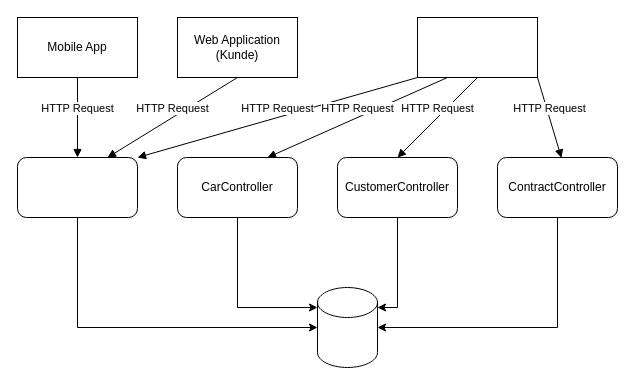
The diagram is 635 pixels wide and 385 high, and some of its shapes have lost their labels. The shapes that lost their labels are listed below. From the top down, each one's centre as x and y in pixels, then its label:
point 477,47: Web Application (Sachbearbeiter)
point 77,187: ReservationController
point 347,327: DB
